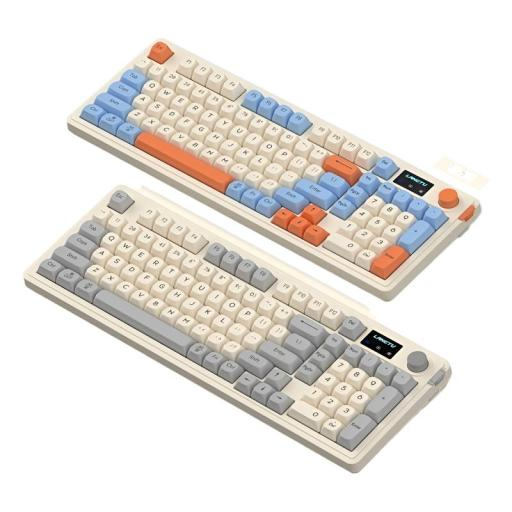keyboard: (24, 37, 480, 471)
